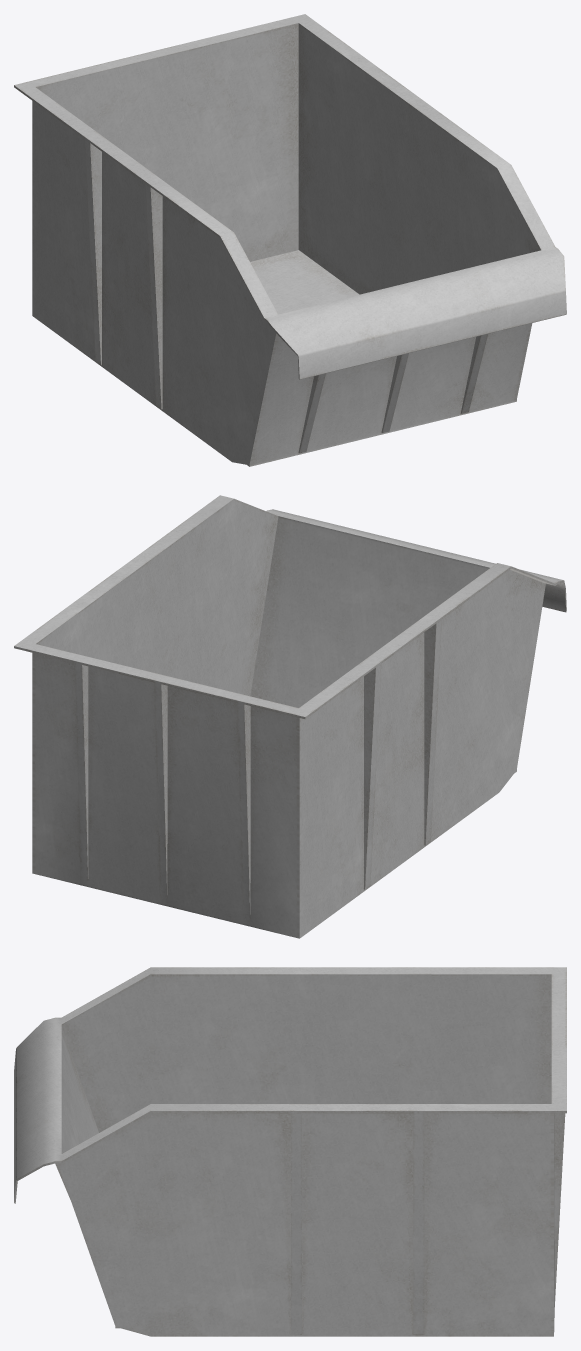
File: Tray01.FBX
3 views of the same model, one above another, from view 1: azimuth 30°, elevation 25°; view 2: azimuth 150°, elevation 25°; view 3: azimuth 270°, elevation 25° (orthographic).
Parts seen in each view (by area): view 1: Tray01_LOD0; view 2: Tray01_LOD0; view 3: Tray01_LOD0.
Part boxes in pixels (bbox=[...]): Tray01_LOD0: bbox=[14, 14, 566, 466]; Tray01_LOD0: bbox=[14, 495, 566, 938]; Tray01_LOD0: bbox=[14, 967, 566, 1336].
Size of what is drawn, in the model's own units: 28.57 by 21.48 by 46.5.
